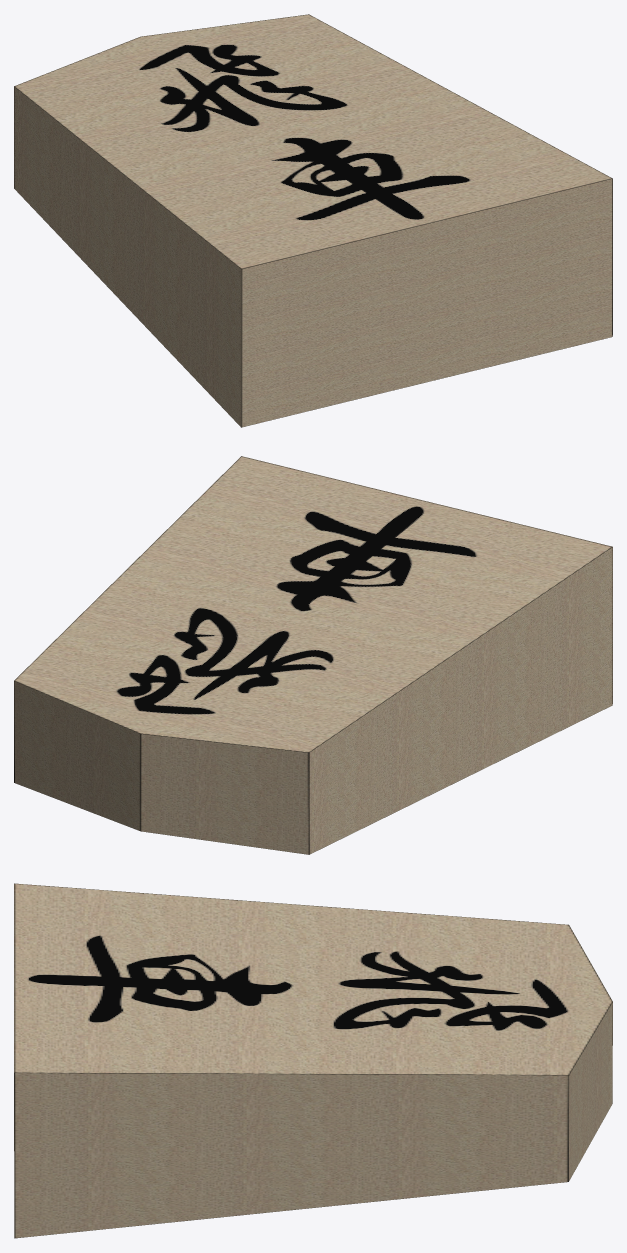
The model's file is 02_Hisha.fbx.
3 views of the same model, one above another, from view 1: azimuth 30°, elevation 25°; view 2: azimuth 150°, elevation 25°; view 3: azimuth 270°, elevation 25° (orthographic). The views are drawn at different scales.
Visible parts, largest first — view 1: 02_Hisha; view 2: 02_Hisha; view 3: 02_Hisha.
Part boxes in pixels (x1,y1,x2,y2): 02_Hisha: (14,14,612,427); 02_Hisha: (14,456,612,854); 02_Hisha: (14,883,612,1238).
Bounding box in the file's own units: 0.655 × 0.8753 × 0.267.
Materials: 1 (1 with a texture image).
